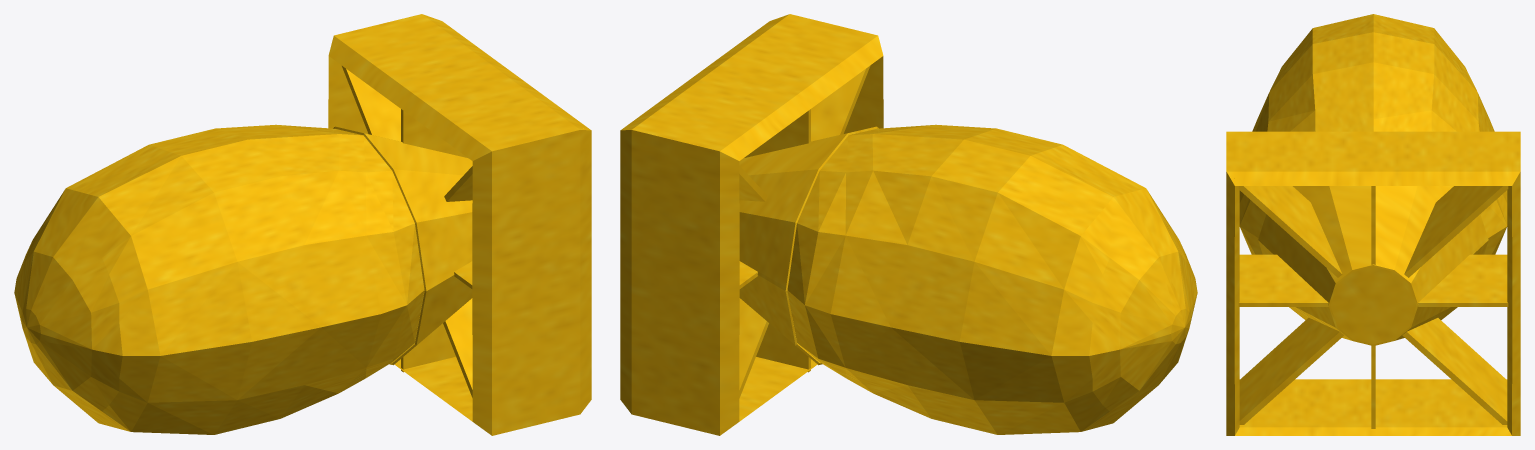
File: fatman_r1.obj
The picture shows the model from 3 angles, left to right: view 1: azimuth 30°, elevation 25°; view 2: azimuth 150°, elevation 25°; view 3: azimuth 270°, elevation 25°; orthographic projection. The views are drawn at different scales.
Parts seen in each view (by area): view 1: NukeBody, NukeTail, InnerCyl, Plane.003, Plane.002, Plane.004; view 2: NukeBody, NukeTail, InnerCyl, Plane.004, Plane.002, Plane.003; view 3: NukeTail, NukeBody, InnerCyl, Plane.004, Plane.003, Plane, Plane.002.
Boxes of the visible parts, x1,y1,x2,y2 form: NukeBody: [14, 124, 424, 434]; NukeTail: [328, 14, 591, 435]; InnerCyl: [333, 126, 472, 365]; Plane.003: [342, 66, 472, 397]; Plane.002: [401, 109, 467, 372]; Plane.004: [444, 128, 585, 201]; NukeBody: [787, 124, 1197, 434]; NukeTail: [620, 14, 883, 435]; InnerCyl: [739, 126, 878, 365]; Plane.004: [739, 18, 870, 398]; Plane.002: [744, 109, 810, 372]; Plane.003: [739, 166, 767, 201]; NukeTail: [1226, 131, 1520, 435]; NukeBody: [1239, 14, 1507, 254]; InnerCyl: [1258, 186, 1488, 345]; Plane.004: [1234, 178, 1507, 424]; Plane.003: [1239, 186, 1508, 424]; Plane: [1238, 254, 1508, 306]; Plane.002: [1371, 186, 1375, 428].
Bounding box in the file's own units: 5 × 2.77 × 2.8.
